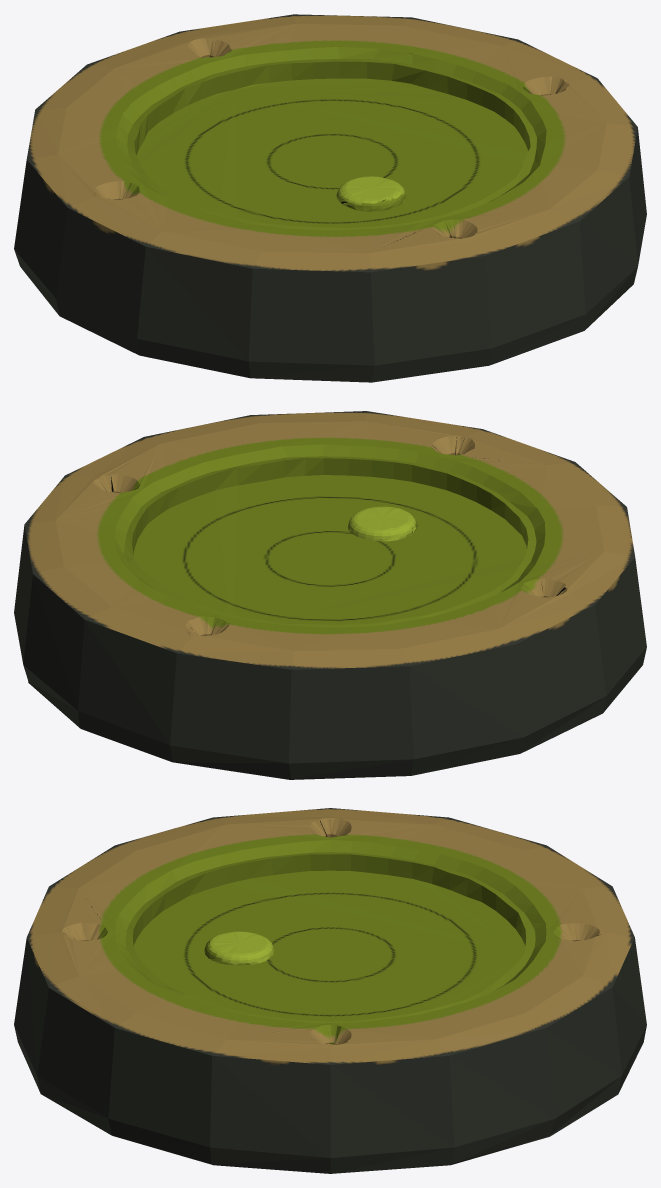
File: 25-bullseye-level.fbx
3 renders of one model, top to bottom at view 1: azimuth 30°, elevation 25°; view 2: azimuth 150°, elevation 25°; view 3: azimuth 270°, elevation 25°, orthographic.
Parts seen in each view (by area): view 1: geometry_0; view 2: geometry_0; view 3: geometry_0.
Boxes of the visible parts, x1,y1,x2,y2 form: geometry_0: (14,14,646,382); geometry_0: (14,411,646,779); geometry_0: (14,808,646,1173).
Size of the model in its own units: 0.09 by 0.0177 by 0.0899.
Materials: 2 (2 with a texture image).
